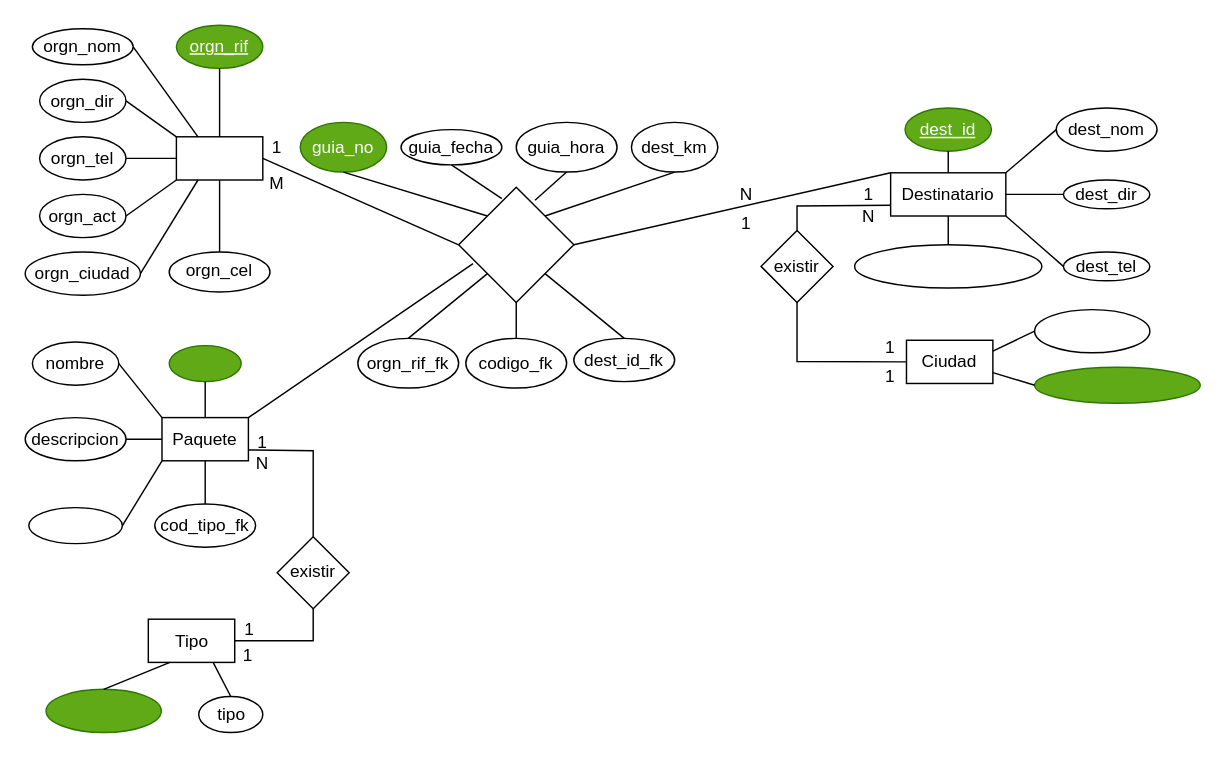
The diagram is 1225 pixels wide and 759 high, and some of its shapes have lost their labels. The centre of each missing label's shape, as x and y in pixels:
cod_tipo: the point at 103,710
codigo: the point at 204,363
dest_ciudad: the point at 1091,330
dest_cod_ciudad: the point at 1116,384
dest_cod_ciudad_fk: the point at 947,265
Empresa: the point at 219,157
Envio N:M: the point at 515,244
valr_flete: the point at 74,525
